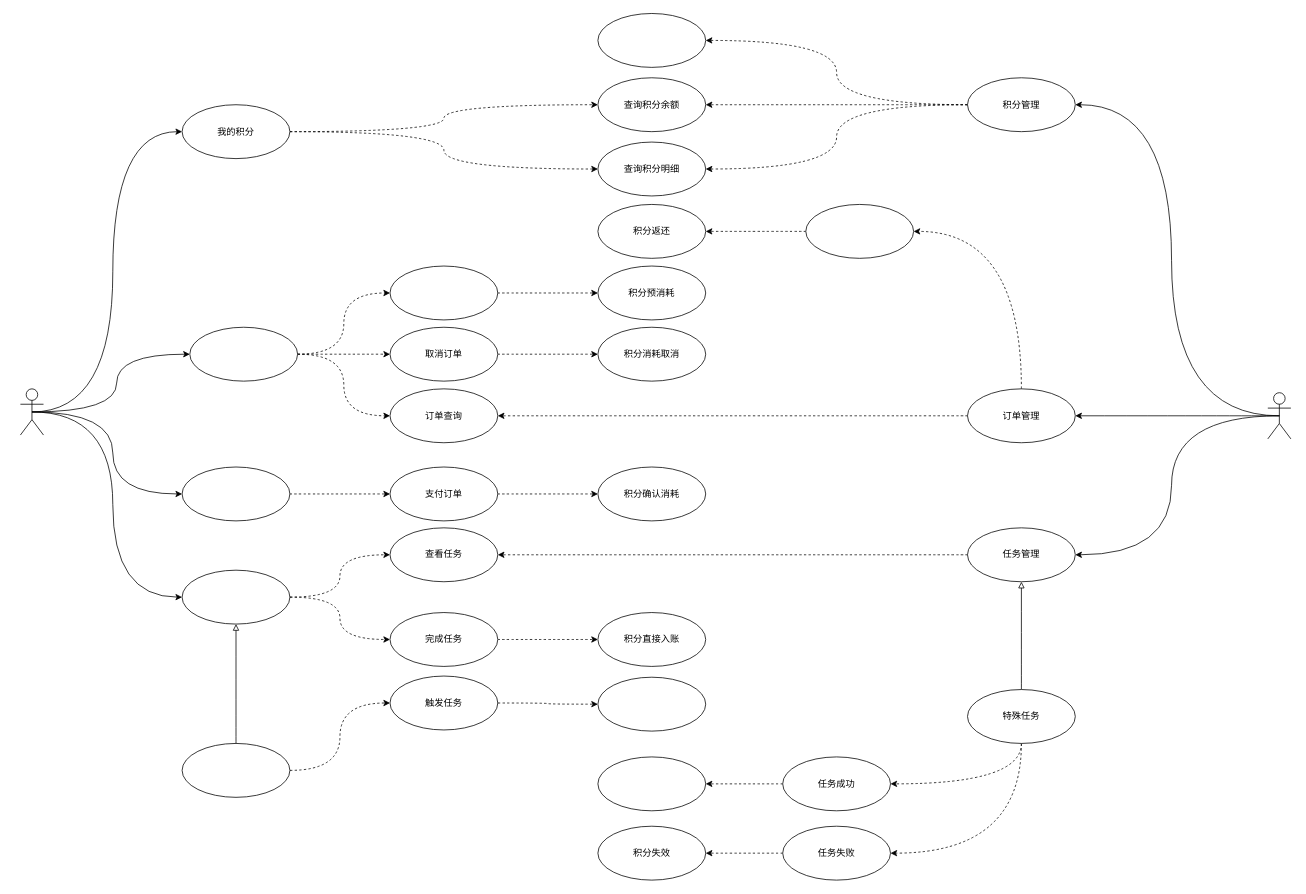
Some shapes in this 1306 by 894 pixel diagram are drawn without their labels. Here are the shapes that lost their labels. From the top down, the centre of each, then its label:
the point at 651,40: 积分冻结
the point at 859,231: 订单退款
the point at 443,292: 确认订单
the point at 243,353: 我的订单
the point at 32,411: 一般用户
the point at 1279,415: 管理员
the point at 235,493: 支付
the point at 235,596: 我的任务
the point at 651,703: 积分入账
the point at 235,770: 特别任务
the point at 651,783: 积分生效
